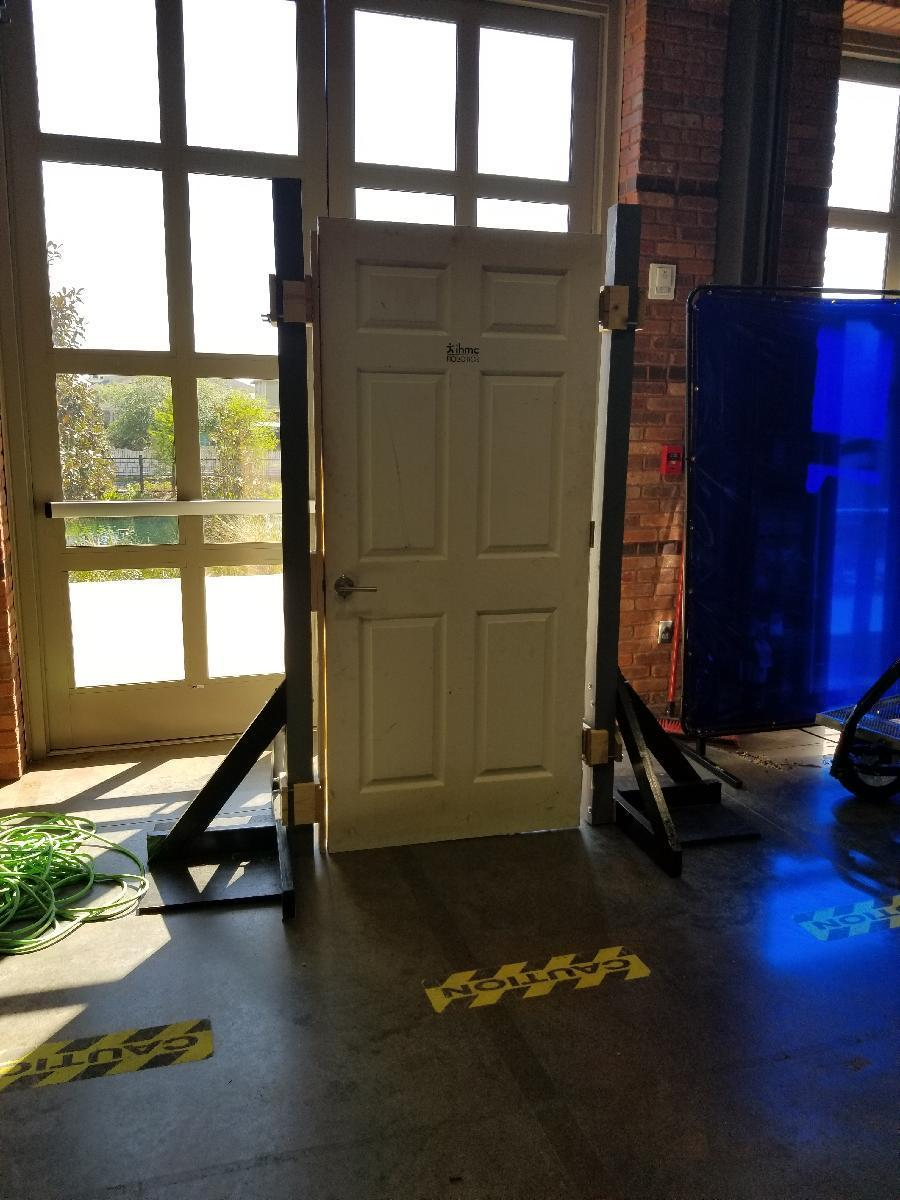door: (315, 216, 590, 843)
handle: (330, 578, 382, 602)
